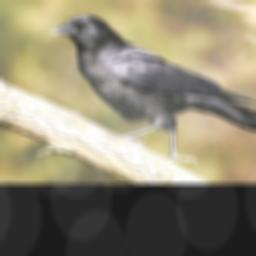Crow: (44, 14, 256, 167)
